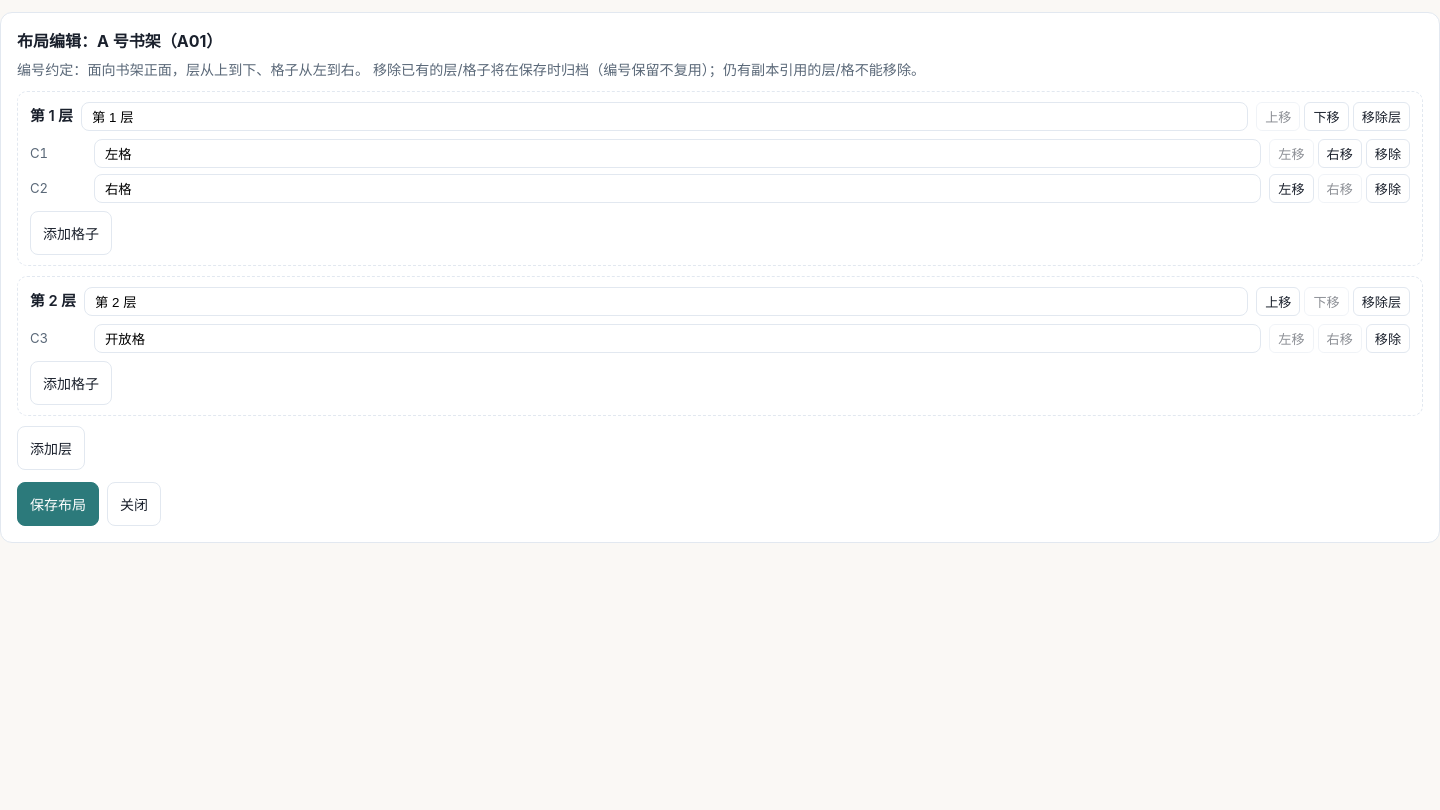
ShelfLayoutEditor › 网络失败后用同一幂等键重试同一载荷
Click the button "保存布局" at (58, 504), box [17,482,99,526]
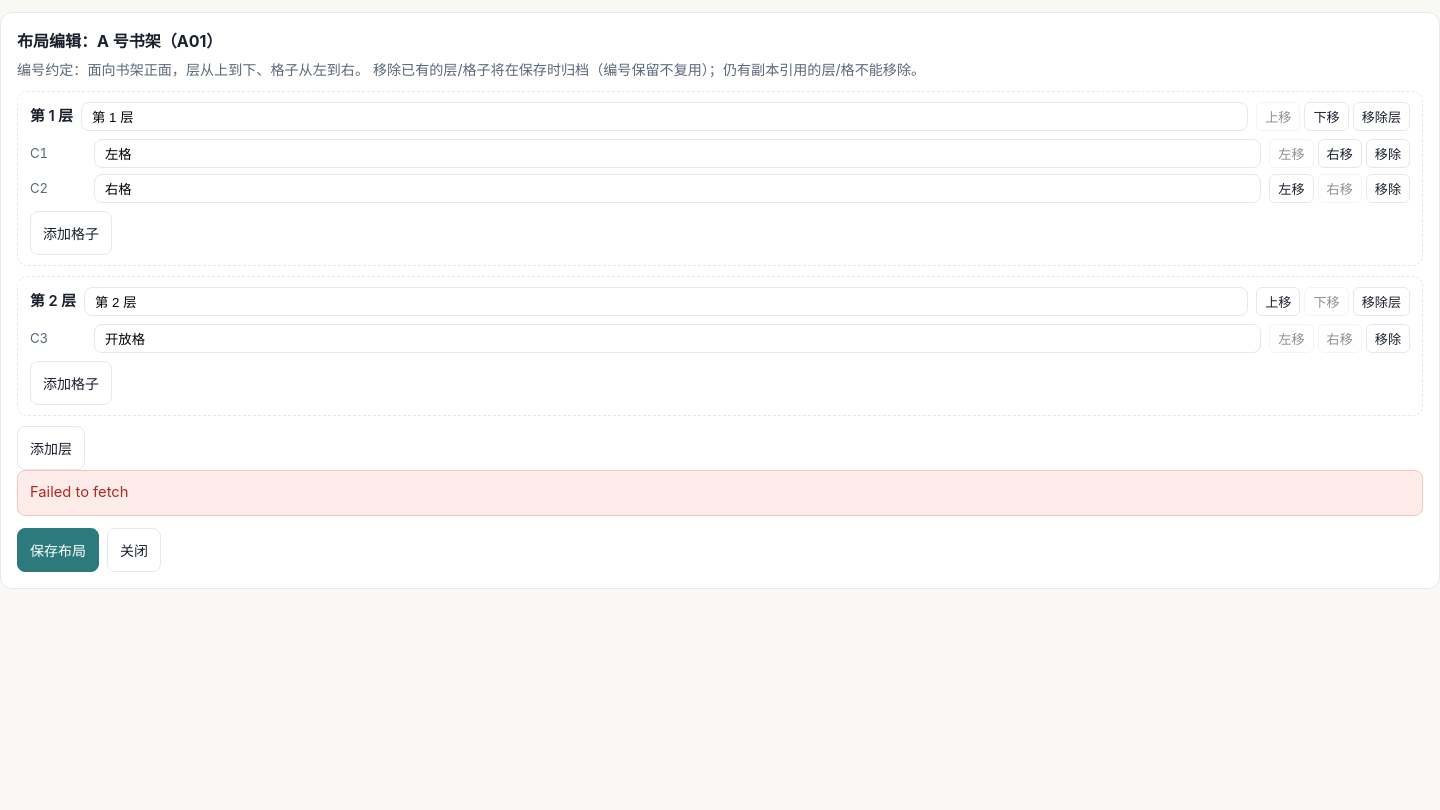
Click the button "保存布局" at (58, 550), box [17,528,99,572]
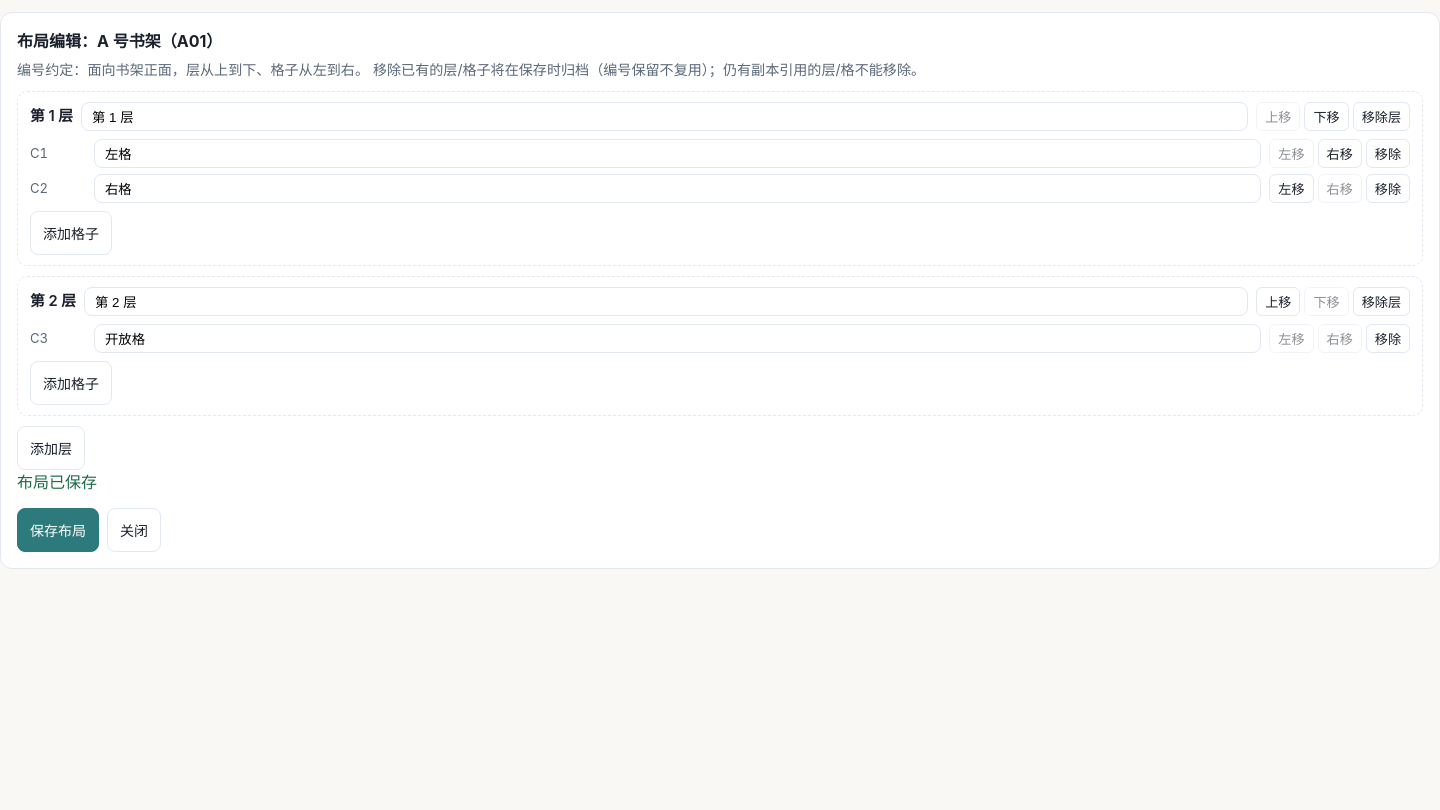
Result: the text "布局已保存" is shown at [17,472,97,492]
